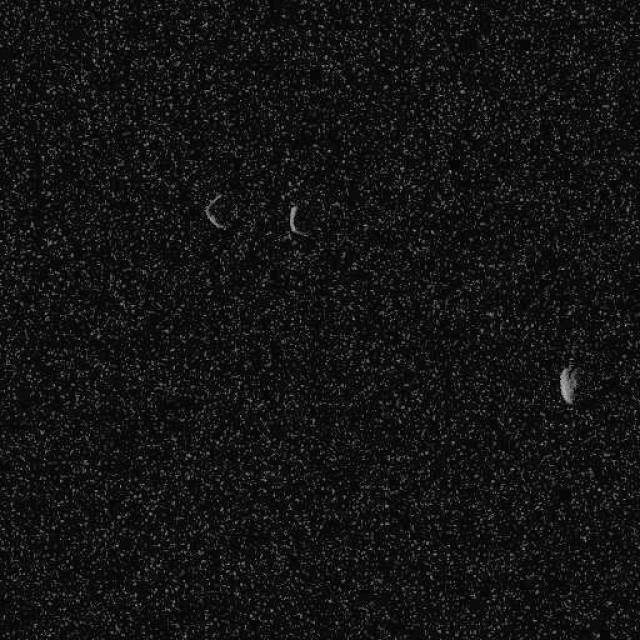D2: (203, 191, 235, 230), (286, 202, 312, 238), (558, 364, 578, 404)
